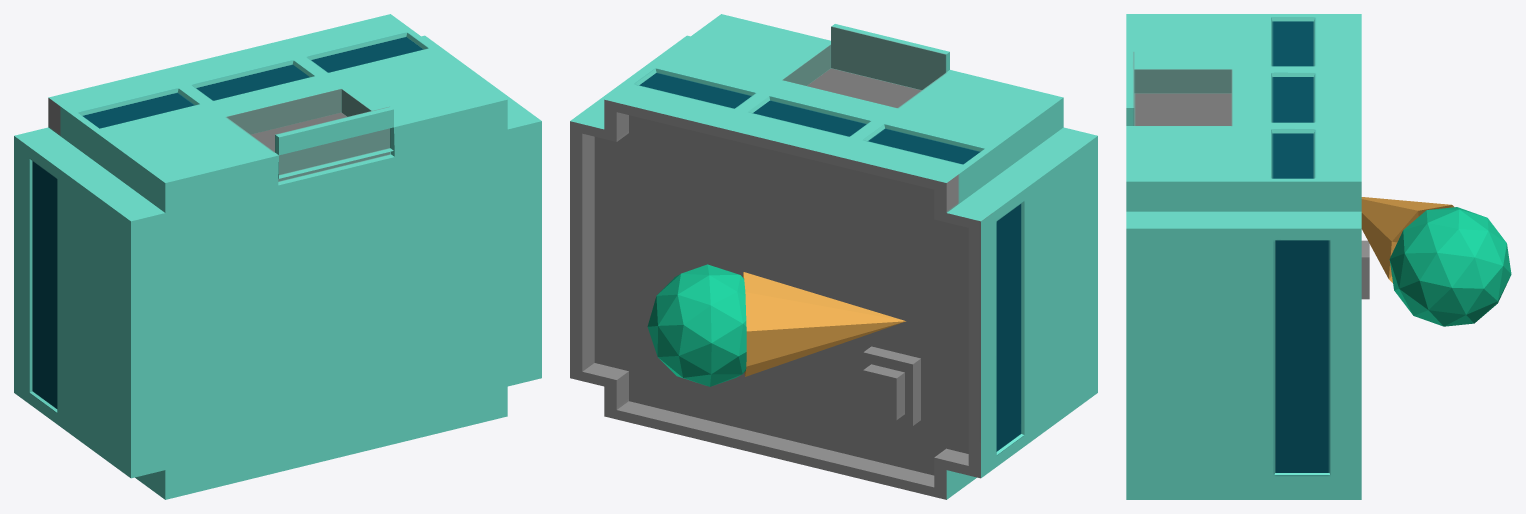
The model's file is stores-buildings-ice-cream.obj.
3 views of the same model, side by side, from view 1: azimuth 30°, elevation 25°; view 2: azimuth 150°, elevation 25°; view 3: azimuth 270°, elevation 25° (orthographic).
Parts seen in each view (by area): view 1: stores-buildings-ice-cream_Plane.150; view 2: stores-buildings-ice-cream_Plane.150; view 3: stores-buildings-ice-cream_Plane.150.
Part boxes in pixels (<box>): stores-buildings-ice-cream_Plane.150: <box>14,14,541,499</box>; stores-buildings-ice-cream_Plane.150: <box>570,14,1097,499</box>; stores-buildings-ice-cream_Plane.150: <box>1126,14,1511,499</box>.
Size of the model in its own units: 8.03 by 6.25 by 6.49.
